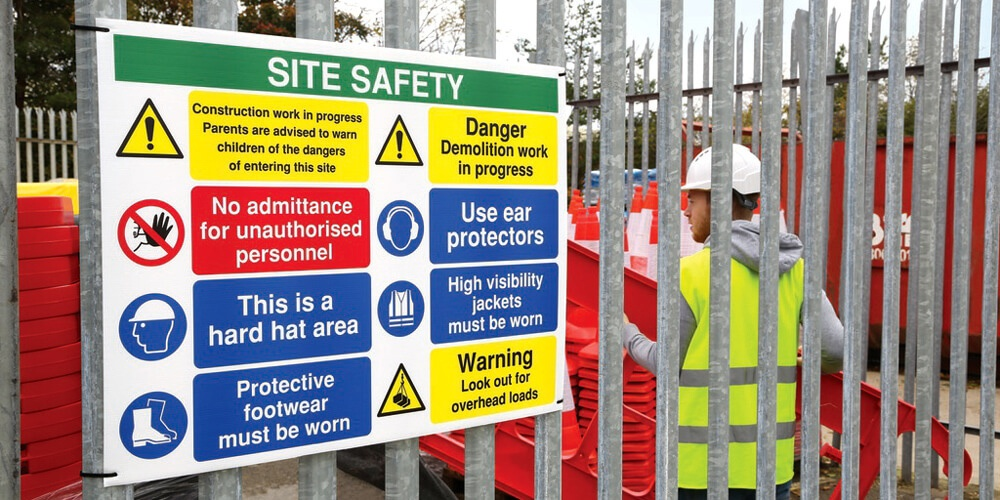white: (684, 144, 764, 242)
